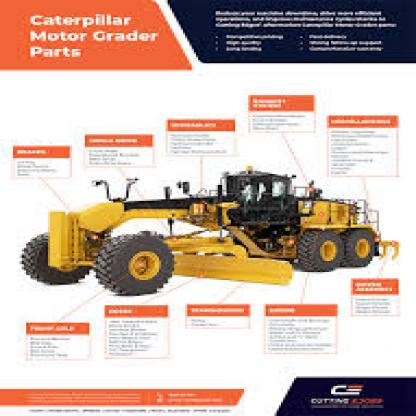bull_dozer/loader/grader: (18, 158, 398, 293)
